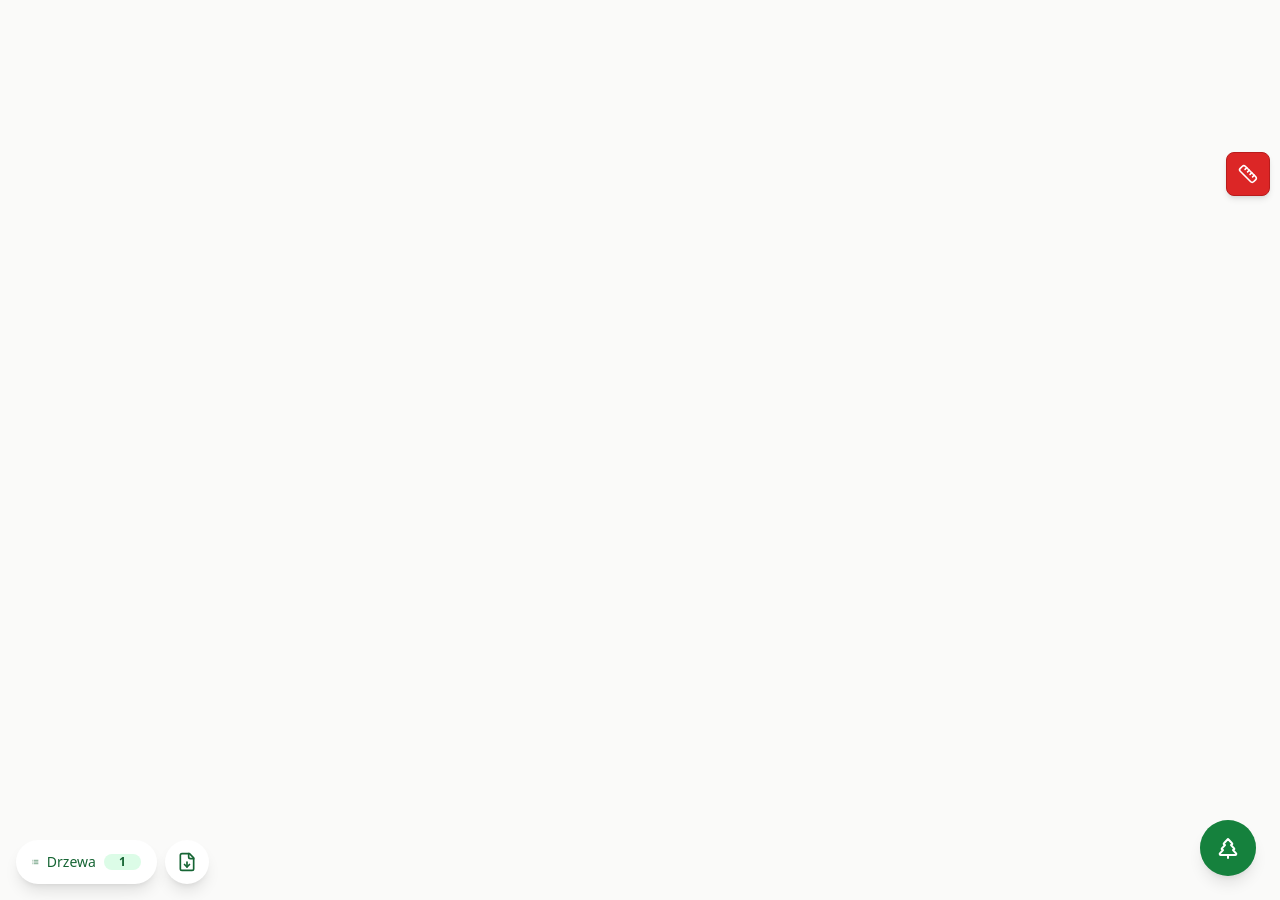
Test: MapPage — mobile split panel (B4) › should not render the panel spacer on desktop even when the list is open
What coordinates should you click on to do the following:
click the button with test id "tree-list-toggle"
I would click on:
 (87, 862)
Its box is [16,840,157,884].
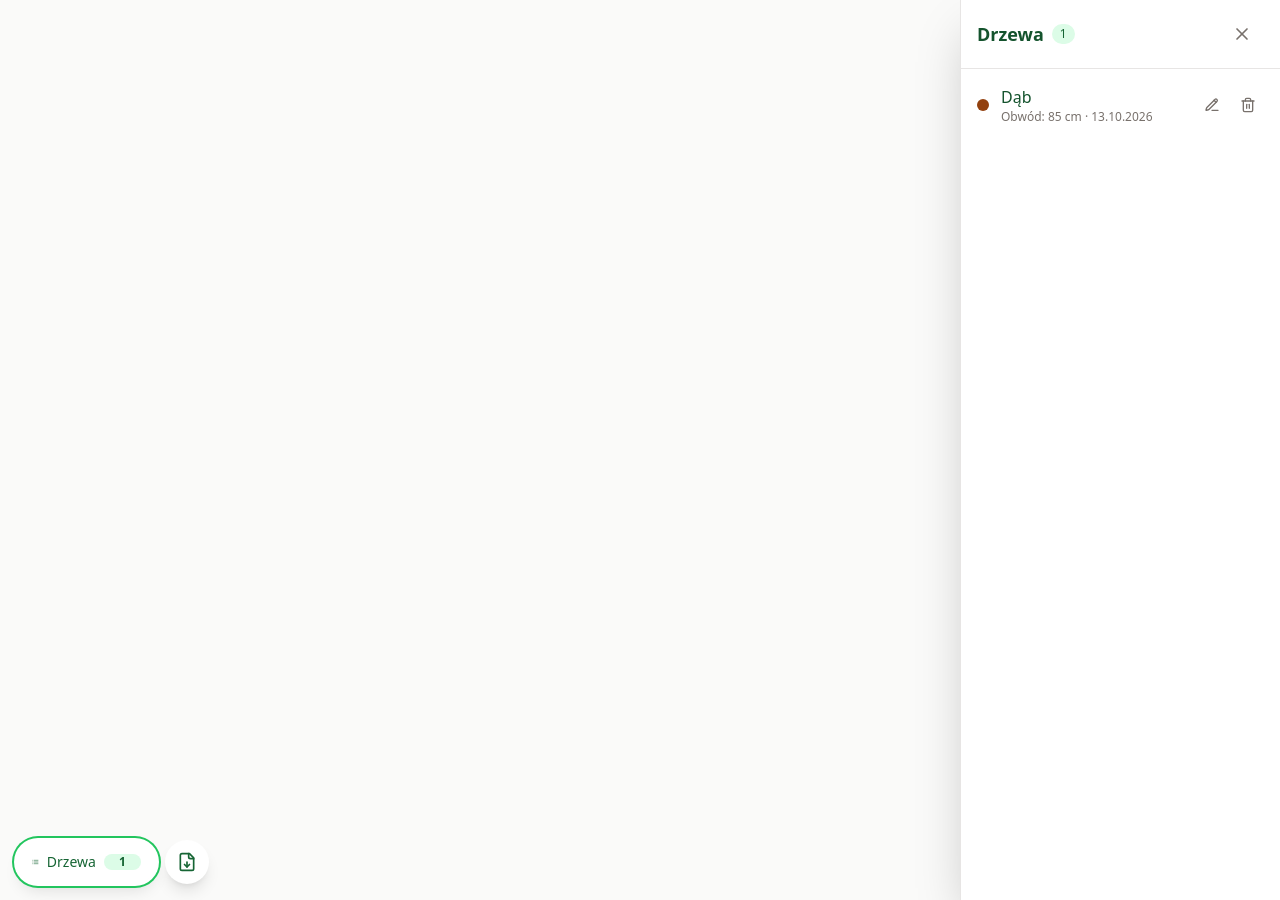
expect the dialog with test id "tree-list-panel" is shown: met, box [960,0,1279,899]
